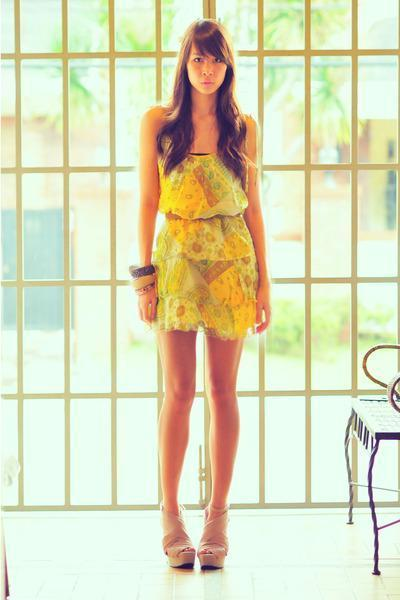dress: (140, 107, 261, 338)
